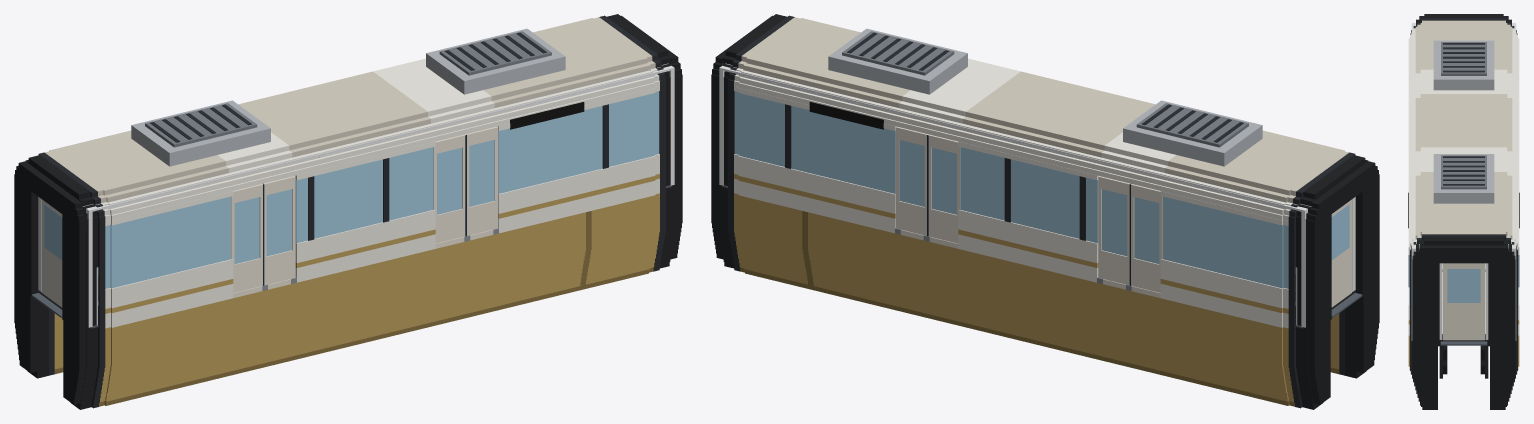
Rendered from palm_jumeirah_car.obj.
3 views of the same model, side by side, from view 1: azimuth 30°, elevation 25°; view 2: azimuth 150°, elevation 25°; view 3: azimuth 270°, elevation 25° (orthographic). The views are drawn at different scales.
Visible parts, largest first — view 1: SHELL, SHELL_diaphragm, SHELL_roof, EXTERNAL_DOOR_4_CG_DR1_TOGGLE_TL_-0.64_X, EXTERNAL_DOOR_10_CG_DR2_TOGGLE_TL_-0.64_X, EXTERNAL_DOOR_11_CG_DR2_TOGGLE_TL_0.64_X, EXTERNAL_DOOR_5_CG_DR1_TOGGLE_TL_0.64_X, SHELL_ceiling, CONNECTING_DOOR_1_CG_CR_TOGGLE_TL_0.98_Z, SHELL_end, SHELL_sign, SHELL_ad; view 2: SHELL, SHELL_diaphragm, SHELL_roof, EXTERNAL_DOOR_7_CG_DL1_TOGGLE_TL_-0.64_X, EXTERNAL_DOOR_13_CG_DL2_TOGGLE_TL_-0.64_X, EXTERNAL_DOOR_8_CG_DL1_TOGGLE_TL_0.64_X, EXTERNAL_DOOR_14_CG_DL2_TOGGLE_TL_0.64_X, SHELL_ceiling, CONNECTING_DOOR_1_CG_CR_TOGGLE_TL_0.98_Z, SHELL_end, SHELL_sign, SHELL_ad; view 3: SHELL, SHELL_diaphragm, SHELL_roof, CONNECTING_DOOR_2_CG_CF_TOGGLE_TL_0.98_Z, SHELL_ceiling, SHELL_end, BOGEY_FRONT, SHELL_gangway.
Boxes of the visible parts, left/top/right/bottom form: SHELL: left=25, top=14, right=675, bottom=409; SHELL_diaphragm: left=14, top=15, right=682, bottom=404; SHELL_roof: left=131, top=28, right=565, bottom=166; EXTERNAL_DOOR_4_CG_DR1_TOGGLE_TL_-0.64_X: left=231, top=183, right=264, bottom=292; EXTERNAL_DOOR_10_CG_DR2_TOGGLE_TL_-0.64_X: left=433, top=134, right=466, bottom=243; EXTERNAL_DOOR_11_CG_DR2_TOGGLE_TL_0.64_X: left=465, top=126, right=498, bottom=235; EXTERNAL_DOOR_5_CG_DR1_TOGGLE_TL_0.64_X: left=264, top=176, right=295, bottom=285; SHELL_ceiling: left=87, top=64, right=671, bottom=211; CONNECTING_DOOR_1_CG_CR_TOGGLE_TL_0.98_Z: left=42, top=199, right=62, bottom=307; SHELL_end: left=38, top=63, right=674, bottom=327; SHELL_sign: left=510, top=102, right=584, bottom=129; SHELL_ad: left=107, top=74, right=655, bottom=209; SHELL: left=718, top=14, right=1368, bottom=409; SHELL_diaphragm: left=711, top=15, right=1379, bottom=404; SHELL_roof: left=828, top=28, right=1262, bottom=166; EXTERNAL_DOOR_7_CG_DL1_TOGGLE_TL_-0.64_X: left=1129, top=184, right=1162, bottom=292; EXTERNAL_DOOR_13_CG_DL2_TOGGLE_TL_-0.64_X: left=927, top=134, right=960, bottom=243; EXTERNAL_DOOR_8_CG_DL1_TOGGLE_TL_0.64_X: left=1098, top=176, right=1130, bottom=285; EXTERNAL_DOOR_14_CG_DL2_TOGGLE_TL_0.64_X: left=895, top=126, right=928, bottom=235; SHELL_ceiling: left=722, top=64, right=1306, bottom=211; CONNECTING_DOOR_1_CG_CR_TOGGLE_TL_0.98_Z: left=1331, top=199, right=1351, bottom=307; SHELL_end: left=719, top=63, right=1355, bottom=327; SHELL_sign: left=809, top=102, right=883, bottom=129; SHELL_ad: left=738, top=74, right=1286, bottom=209; SHELL: left=1408, top=14, right=1519, bottom=409; SHELL_diaphragm: left=1413, top=16, right=1514, bottom=406; SHELL_roof: left=1433, top=40, right=1494, bottom=203; CONNECTING_DOOR_2_CG_CF_TOGGLE_TL_0.98_Z: left=1443, top=263, right=1484, bottom=340; SHELL_ceiling: left=1411, top=24, right=1516, bottom=247; SHELL_end: left=1411, top=23, right=1516, bottom=340; BOGEY_FRONT: left=1439, top=344, right=1488, bottom=378; SHELL_gangway: left=1440, top=341, right=1487, bottom=345.
Bounding box in the file's own units: 13.12 × 4.8 × 2.66.
1 material, 1 textured.
